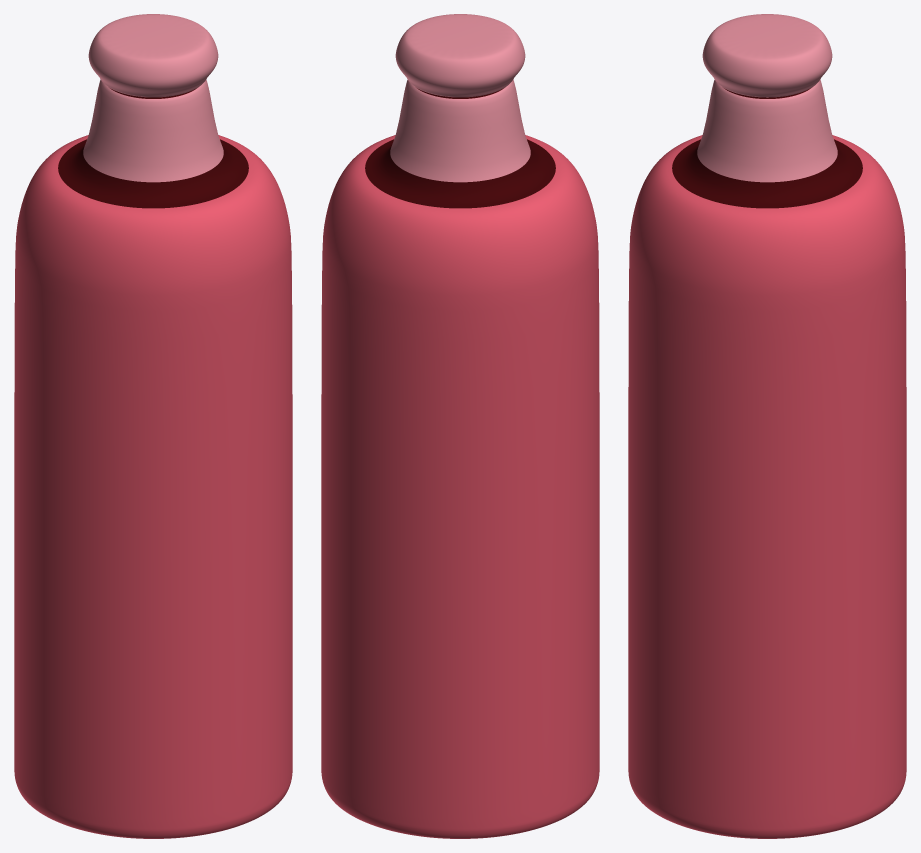
The model's file is RedShampoo.fbx.
The picture shows the model from 3 angles, left to right: view 1: azimuth 30°, elevation 25°; view 2: azimuth 150°, elevation 25°; view 3: azimuth 270°, elevation 25°; orthographic projection.
Parts seen in each view (by area): view 1: Cylinder; view 2: Cylinder; view 3: Cylinder.
Boxes of the visible parts, left/top/right/bottom form: Cylinder: left=14, top=14, right=292, bottom=838; Cylinder: left=321, top=14, right=599, bottom=838; Cylinder: left=628, top=14, right=906, bottom=838.
Bounding box in the file's own units: 327 × 970 × 327.
